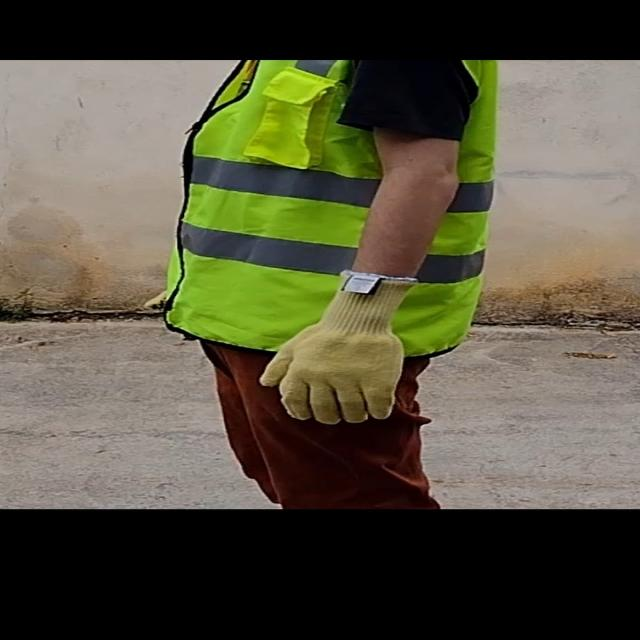glove: (253, 272, 437, 426)
pants: (210, 336, 450, 506)
vest: (154, 59, 507, 349)
